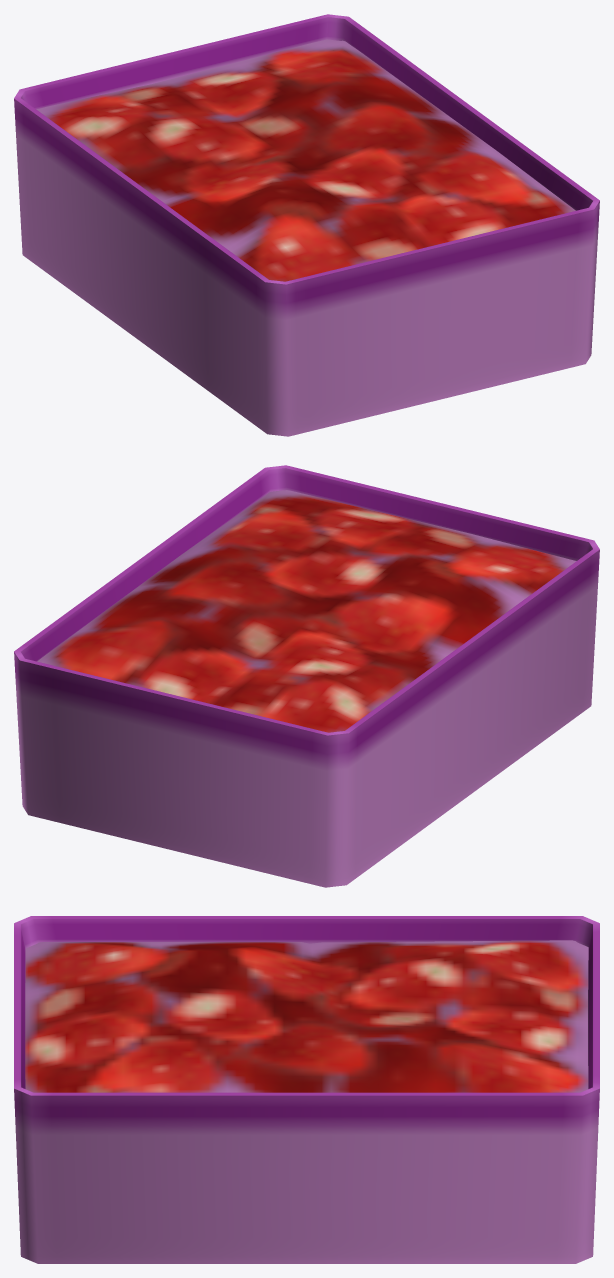
Rendered from jsf_Ingredient_Strawberry.fbx.
The picture shows the model from 3 angles, top to bottom: view 1: azimuth 30°, elevation 25°; view 2: azimuth 150°, elevation 25°; view 3: azimuth 270°, elevation 25°; orthographic projection. The views are drawn at different scales.
Visible parts, largest first — view 1: jsf_Ingredient_Strawberry; view 2: jsf_Ingredient_Strawberry; view 3: jsf_Ingredient_Strawberry.
Boxes of the visible parts, x1,y1,x2,y2 form: jsf_Ingredient_Strawberry: [14, 14, 599, 436]; jsf_Ingredient_Strawberry: [14, 465, 599, 887]; jsf_Ingredient_Strawberry: [14, 916, 599, 1263].
Bounding box in the file's own units: 9.52 × 4.42 × 13.12.
